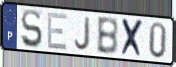0: (147, 21, 168, 60)
B: (96, 16, 120, 57)
E: (46, 11, 69, 52)
J: (74, 16, 92, 52)
S: (20, 8, 44, 50)
X: (120, 17, 146, 60)
